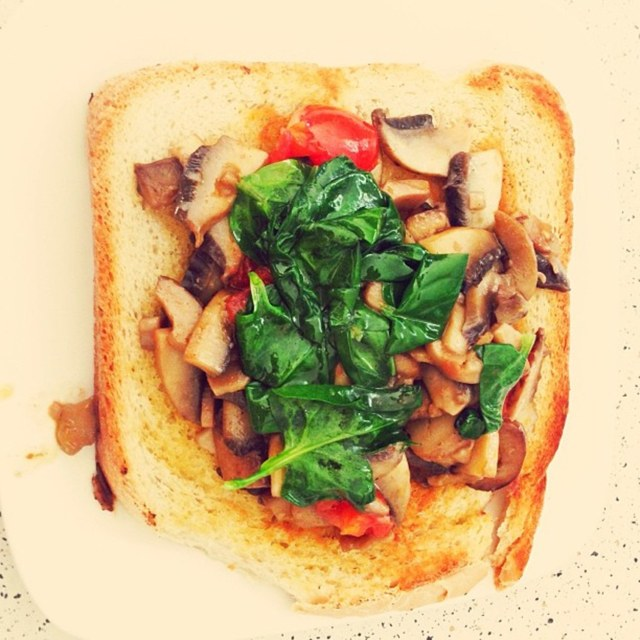tomato: (270, 104, 377, 166), (315, 485, 394, 537)
